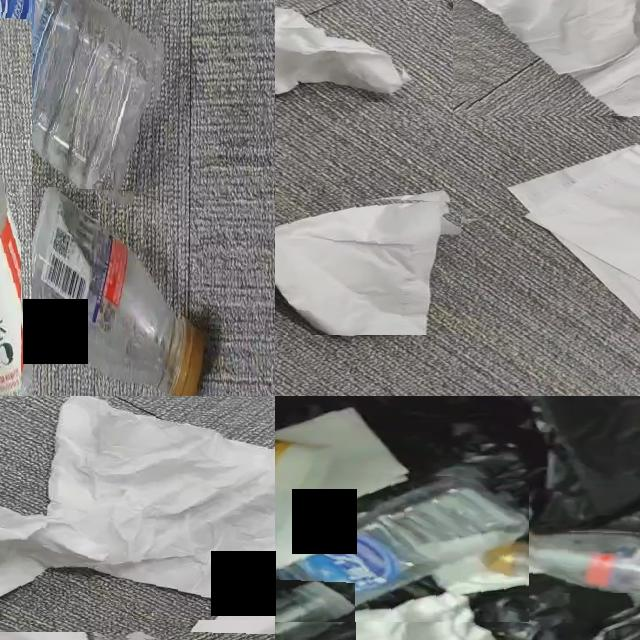bottle: (21, 187, 203, 396), (275, 475, 529, 615), (0, 0, 159, 196), (484, 532, 640, 593), (275, 585, 356, 640)
dixie_cup: (275, 439, 328, 495)
paper: (0, 396, 275, 595), (275, 199, 461, 335), (511, 146, 640, 317), (472, 0, 640, 116), (275, 408, 407, 504), (275, 584, 496, 640), (275, 7, 404, 94), (410, 519, 544, 585), (510, 160, 594, 210), (596, 148, 626, 164)
